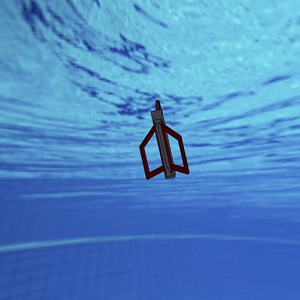submarine: (125, 86, 202, 182)
